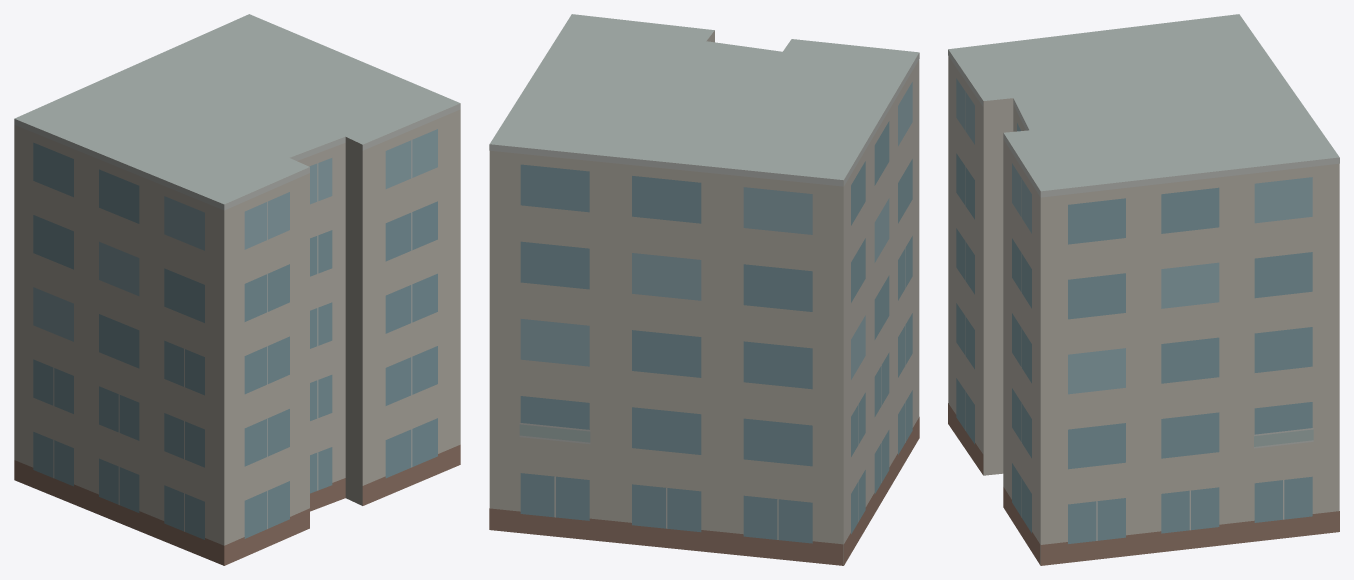
Rendered from survey-upis-32651280.glb.
3 views of the same model, side by side, from view 1: azimuth 30°, elevation 25°; view 2: azimuth 150°, elevation 25°; view 3: azimuth 270°, elevation 25° (orthographic). The views are drawn at different scales.
Parts seen in each view (by area): view 1: survey-upis-32651280.tmp; view 2: survey-upis-32651280.tmp; view 3: survey-upis-32651280.tmp.
Boxes of the visible parts, <box> form: survey-upis-32651280.tmp: <box>14,14,460,565</box>; survey-upis-32651280.tmp: <box>489,14,919,565</box>; survey-upis-32651280.tmp: <box>948,14,1339,565</box>.
Bounding box in the file's own units: 14.83 × 14.6 × 13.85.
